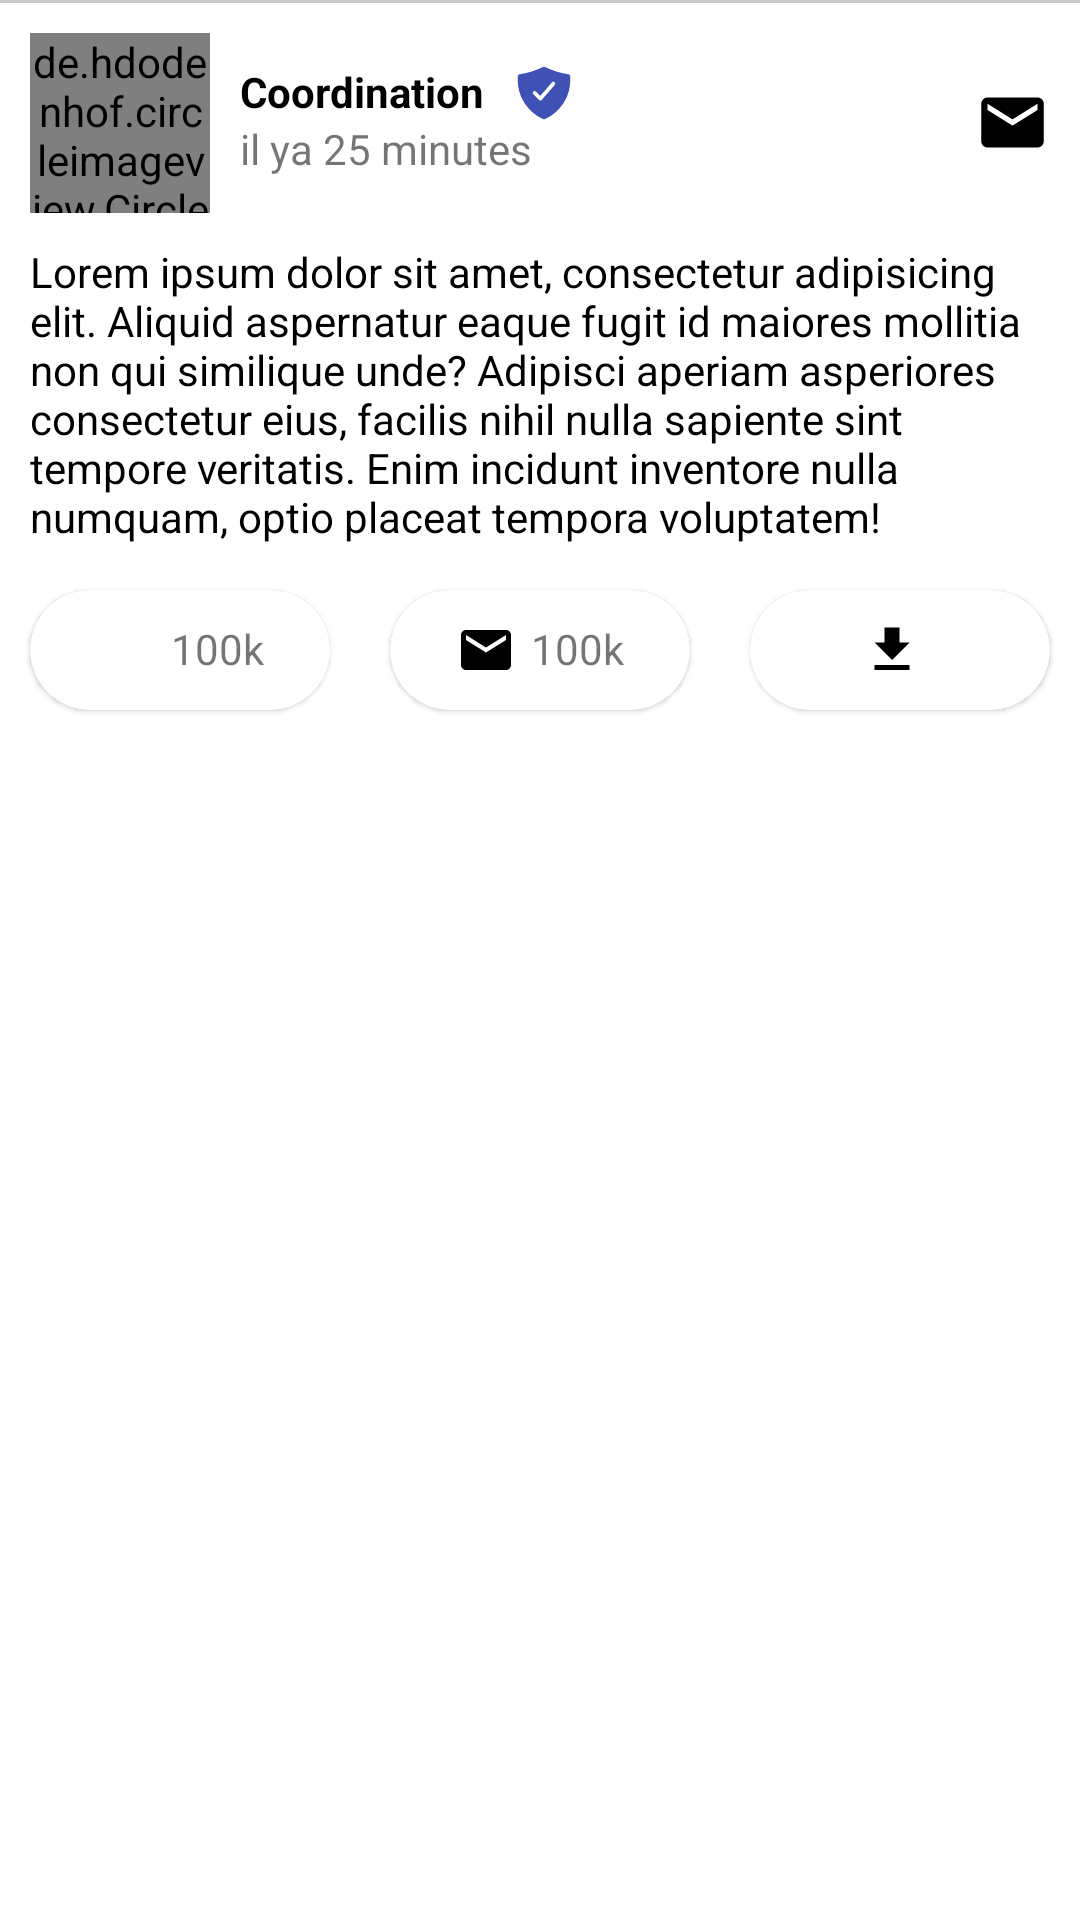

Point at icon controls on the screen. Image size 1080 x 1920, points as (x,y).
email: (1012,122), (486,650)
get app: (892,648)
